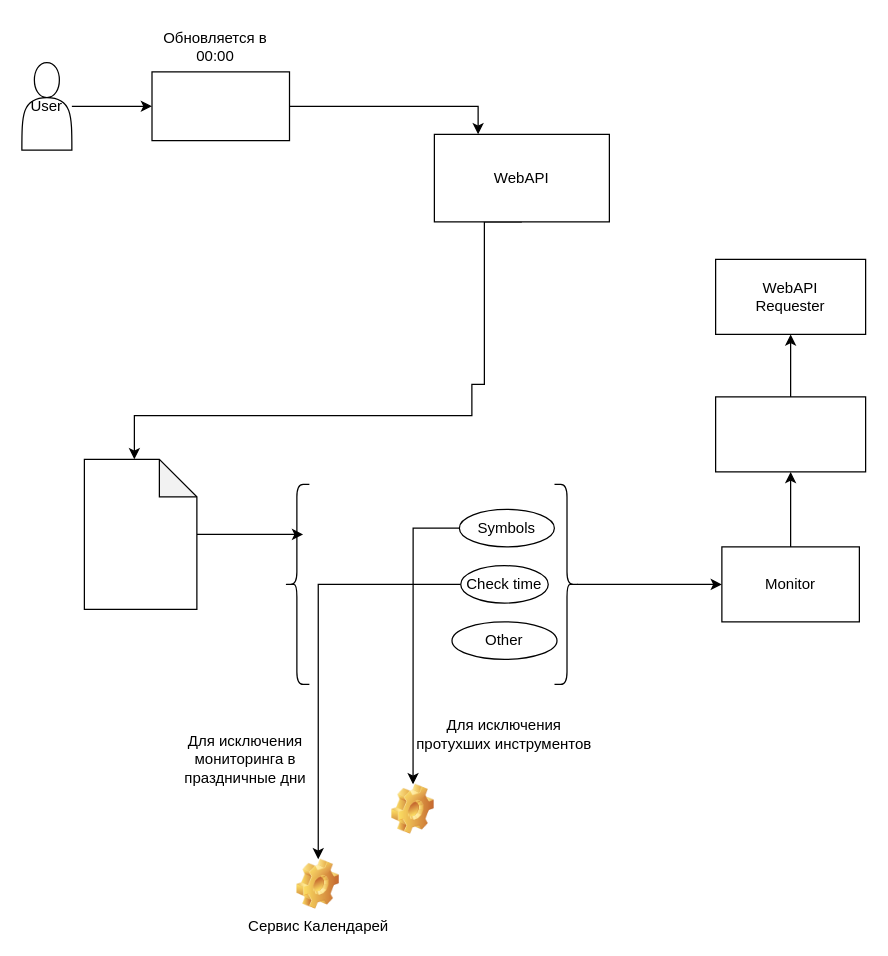
The diagram is 888 pixels wide and 956 high, and some of its shapes have lost their labels. The box of each missing label's shape, as (x1, y1, x2, y2) in pixels:
Settings dispatcher: (151, 71, 290, 141)
Settings id otq path otq params check time frequency tz *special: (83, 458, 197, 609)
WebAPI Builder: (714, 396, 866, 472)
Сервис Иерархии: (391, 784, 434, 834)
